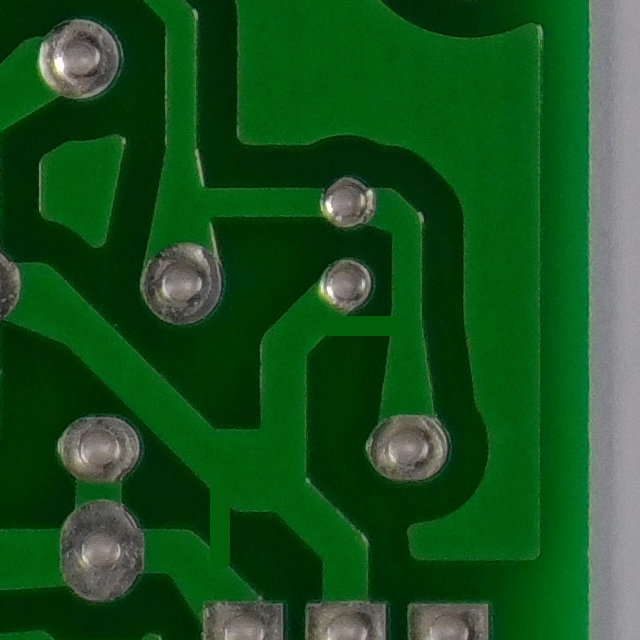short: (178, 434, 269, 586), (287, 270, 419, 370)
